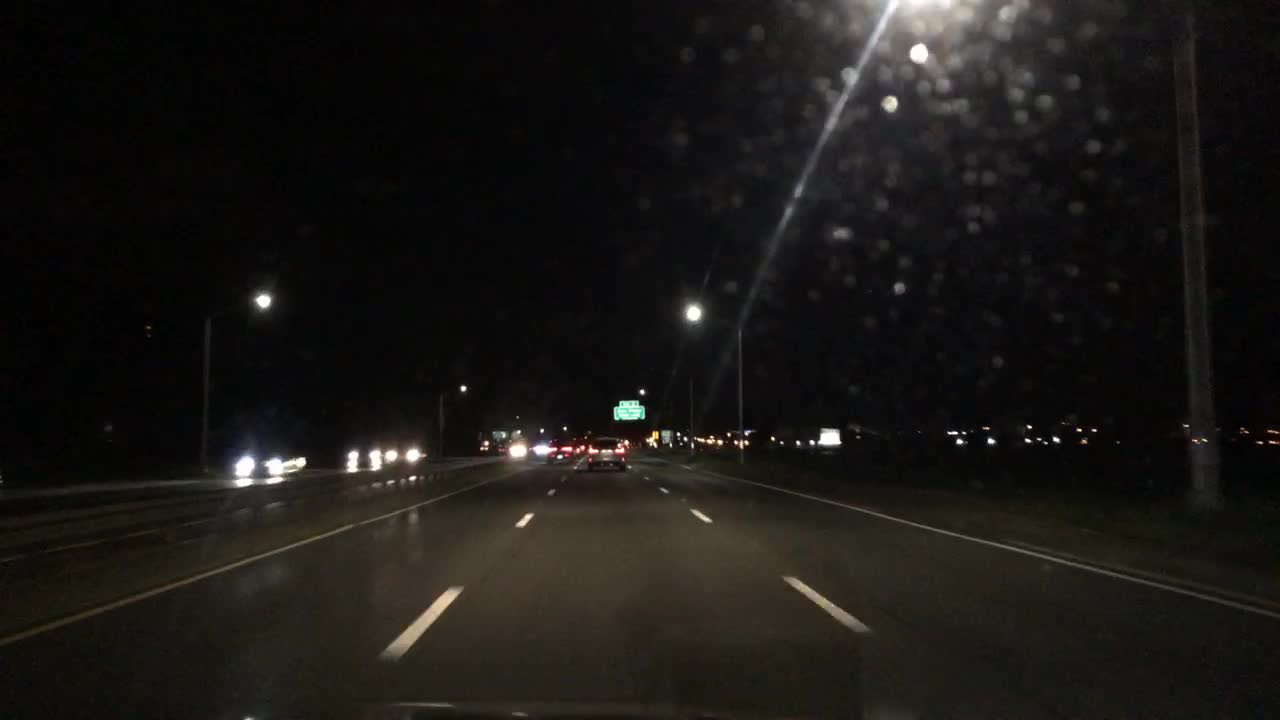car: (234, 451, 304, 476), (586, 435, 627, 472), (382, 441, 419, 465), (544, 435, 573, 464), (344, 446, 382, 467), (573, 438, 585, 459)
person: (619, 399, 640, 405)
traffic sign: (613, 405, 645, 420)
